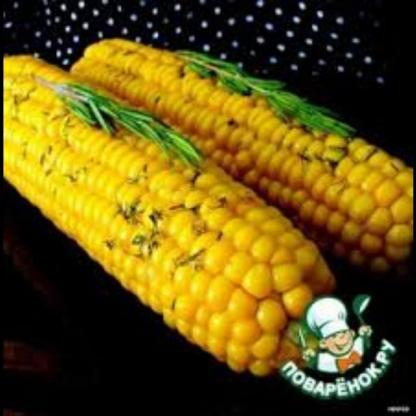corn: (3, 49, 332, 370), (86, 20, 412, 262)
